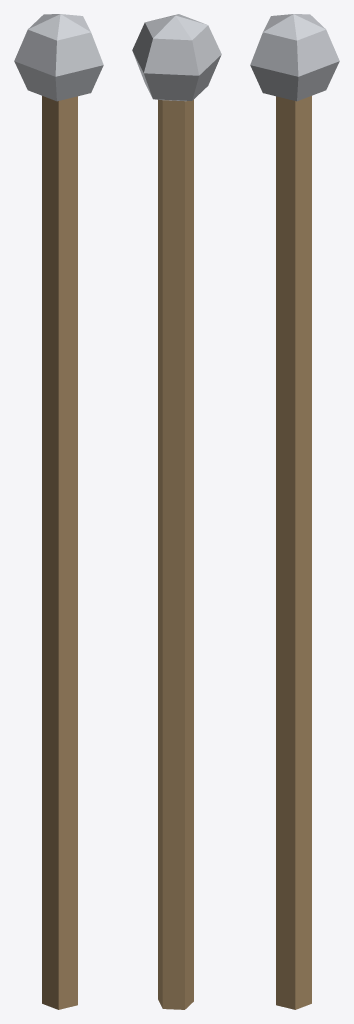
The model's file is staff_cane.glb.
The picture shows the model from 3 angles, left to right: view 1: azimuth 30°, elevation 25°; view 2: azimuth 210°, elevation 25°; view 3: azimuth 330°, elevation 25°; orthographic projection.
Parts seen in each view (by area): view 1: cyl, sphere; view 2: cyl, sphere; view 3: cyl, sphere.
Boxes of the visible parts, x1,y1,x2,y2 form: cyl: (42,96,77,1009); sphere: (14,14,103,101); cyl: (158,99,193,1009); sphere: (132,14,221,101); cyl: (276,96,311,1009); sphere: (250,14,339,101).
Bounding box in the file's own units: 0.0571 × 0.69 × 0.0543.
